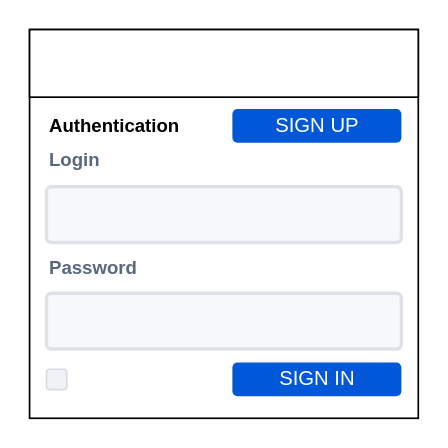
This 448x448 diagram has some shape labels left out. The shapes that lost their labels are listed below. From the top down, each one's centre as x and y in pixels, then its label:
At pixel 223 62: "lab19_Lukyanov".
At pixel 56 379: "Save".
